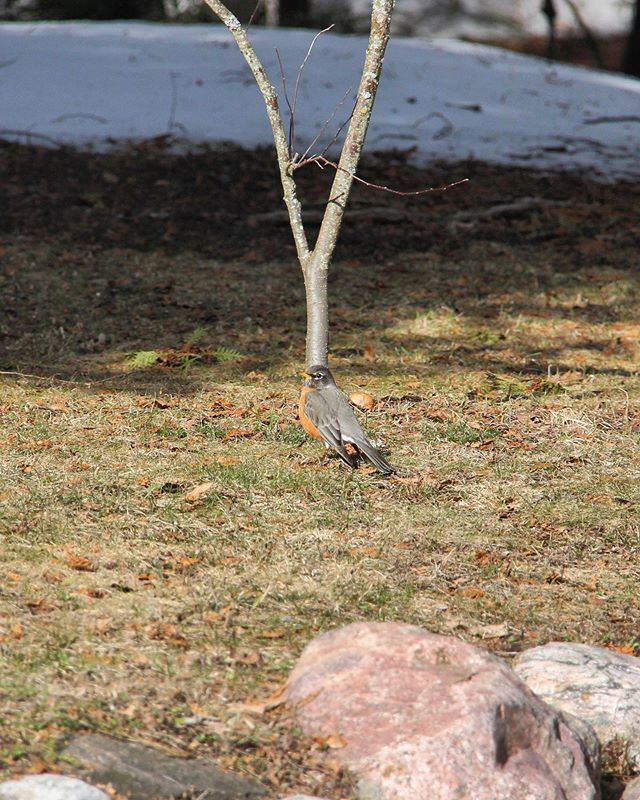animal: (276, 347, 381, 496)
grass: (25, 160, 640, 798)
tree: (177, 1, 404, 376)
